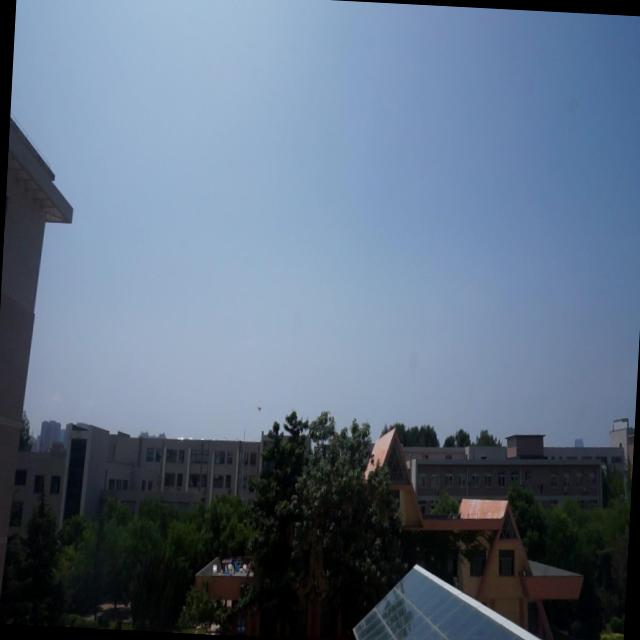drone: (255, 402, 264, 414)
